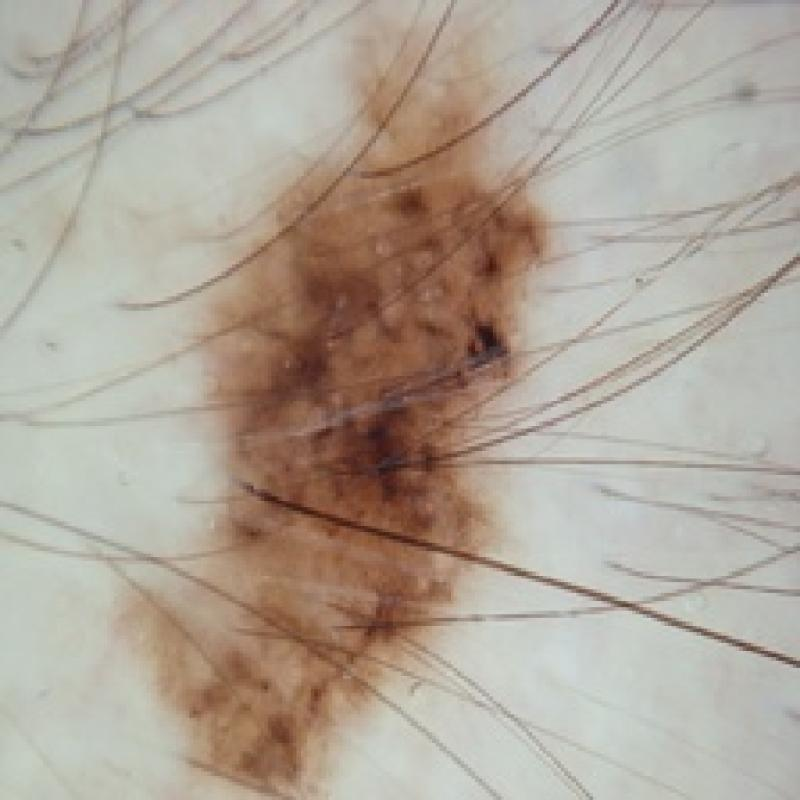malignant: (140, 38, 570, 794)
